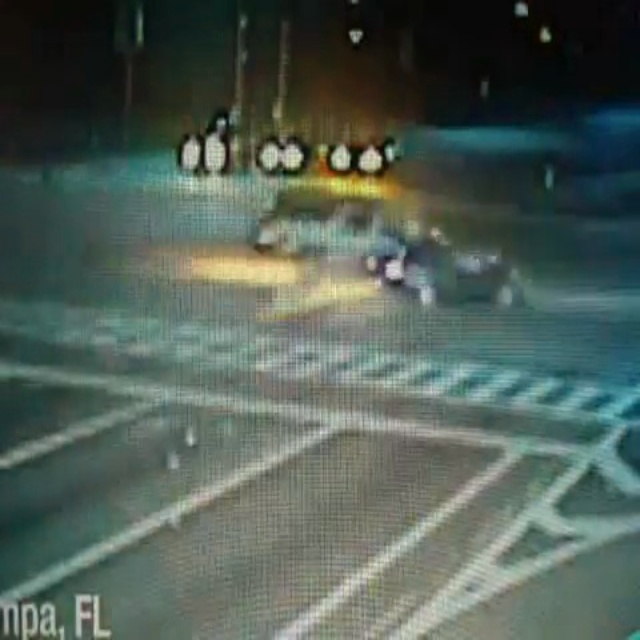acc: (245, 185, 528, 317)
